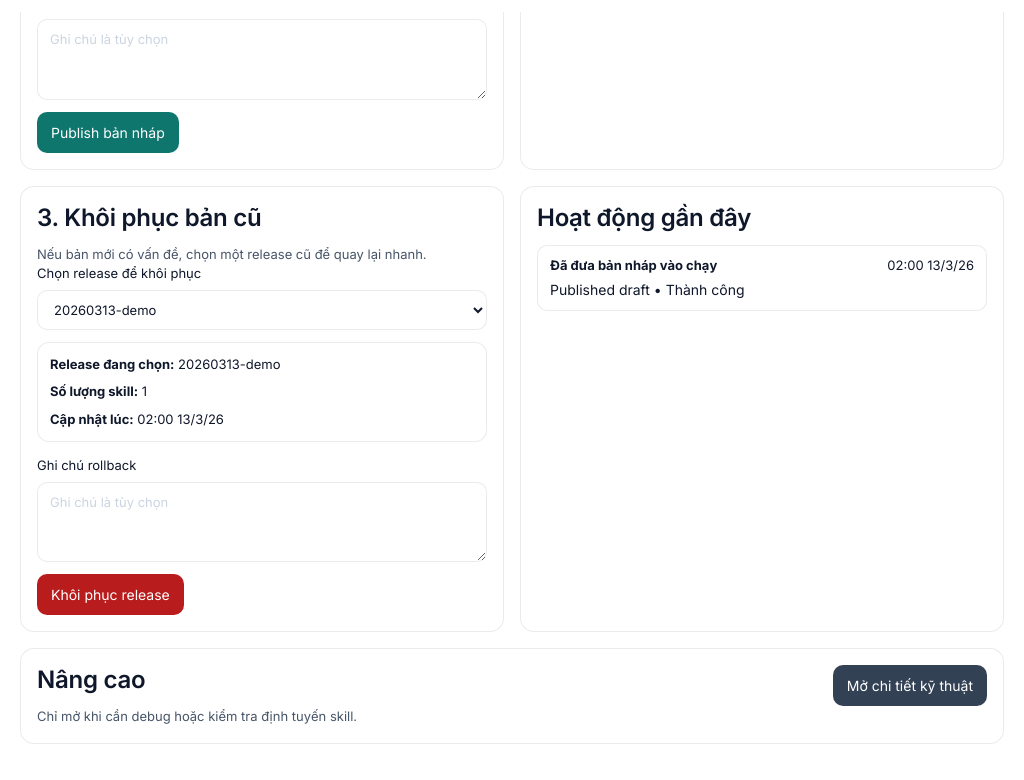
Test case: AdminConsole › shows translated publish gate labels in Vietnamese and keeps raw codes in advanced mode
(page scrolled)
Check: the text "average_score_below_active_threshold" is not shown
Click the button "Mở chi tiết kỹ thuật": (910, 686) [833,665,987,706]
(page scrolled)
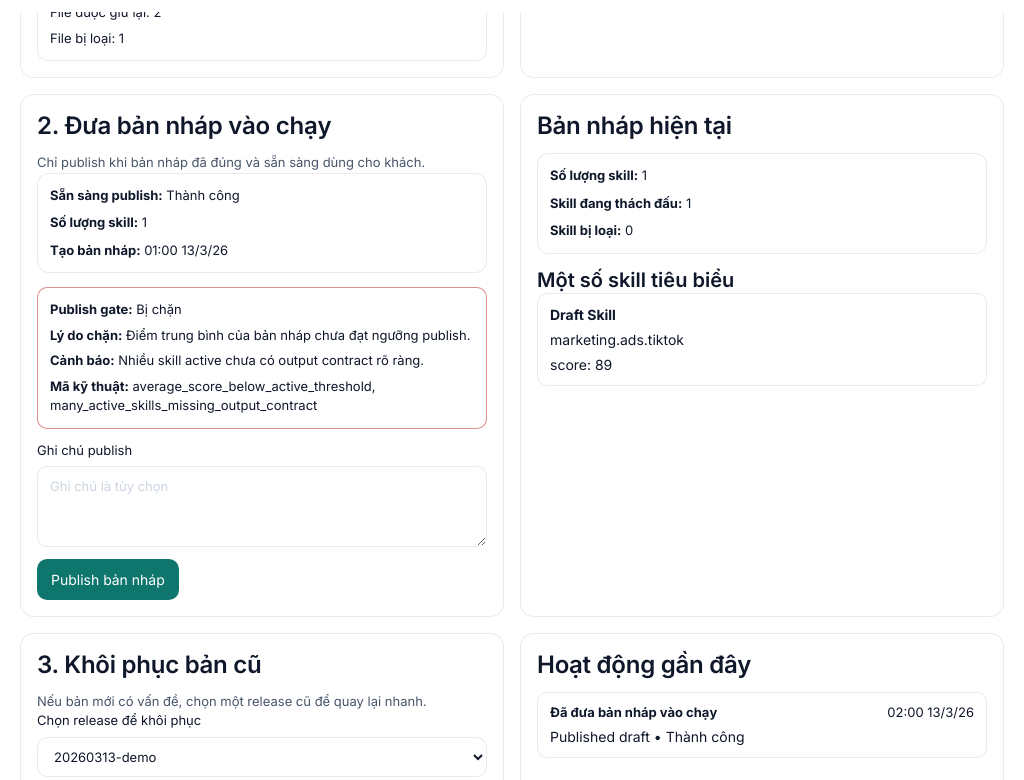
Check: the text "average_score_below_active_threshold" is shown, box [50,378,376,413]
